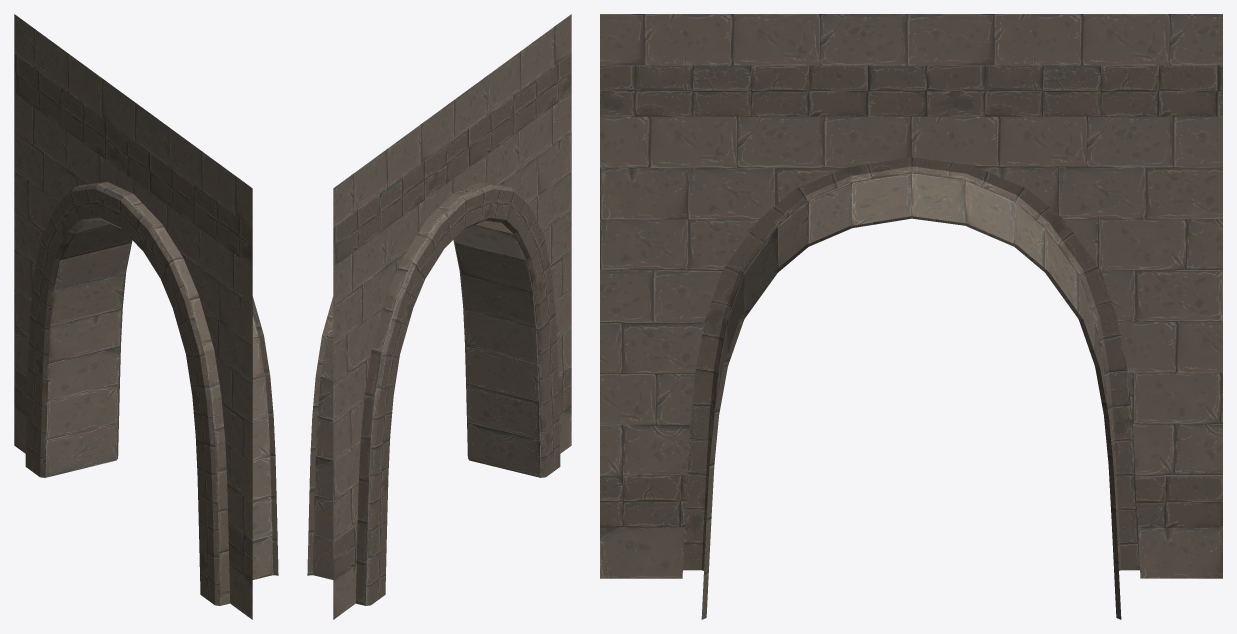
File: Ruins_ArchWall_Intact_01a.fbx
3 views of the same model, side by side, from view 1: azimuth 30°, elevation 25°; view 2: azimuth 150°, elevation 25°; view 3: azimuth 270°, elevation 25° (orthographic). The views are drawn at different scales.
Visible parts, largest first — view 1: Ruins_ArchWall_Intact_01a; view 2: Ruins_ArchWall_Intact_01a; view 3: Ruins_ArchWall_Intact_01a.
Boxes of the visible parts, box(x1,y1,x2,y2) form: Ruins_ArchWall_Intact_01a: box(14, 14, 278, 619); Ruins_ArchWall_Intact_01a: box(307, 14, 571, 619); Ruins_ArchWall_Intact_01a: box(600, 14, 1222, 619).
Size of the model in its own units: 1.51 by 8 by 8.
1 material, 1 textured.
